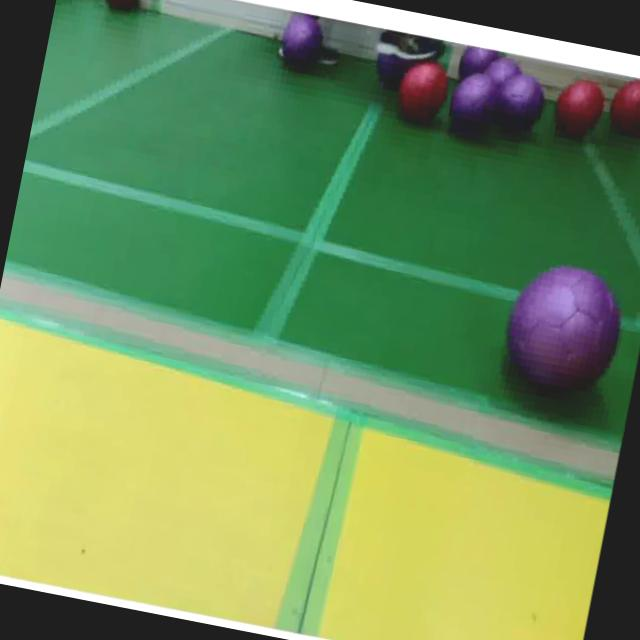purple_ball: (494, 257, 630, 424), (442, 68, 507, 149), (496, 74, 550, 142), (278, 15, 332, 77), (483, 54, 531, 89), (458, 45, 501, 80)
red_ball: (551, 78, 609, 148), (397, 62, 452, 128), (605, 77, 640, 142)
